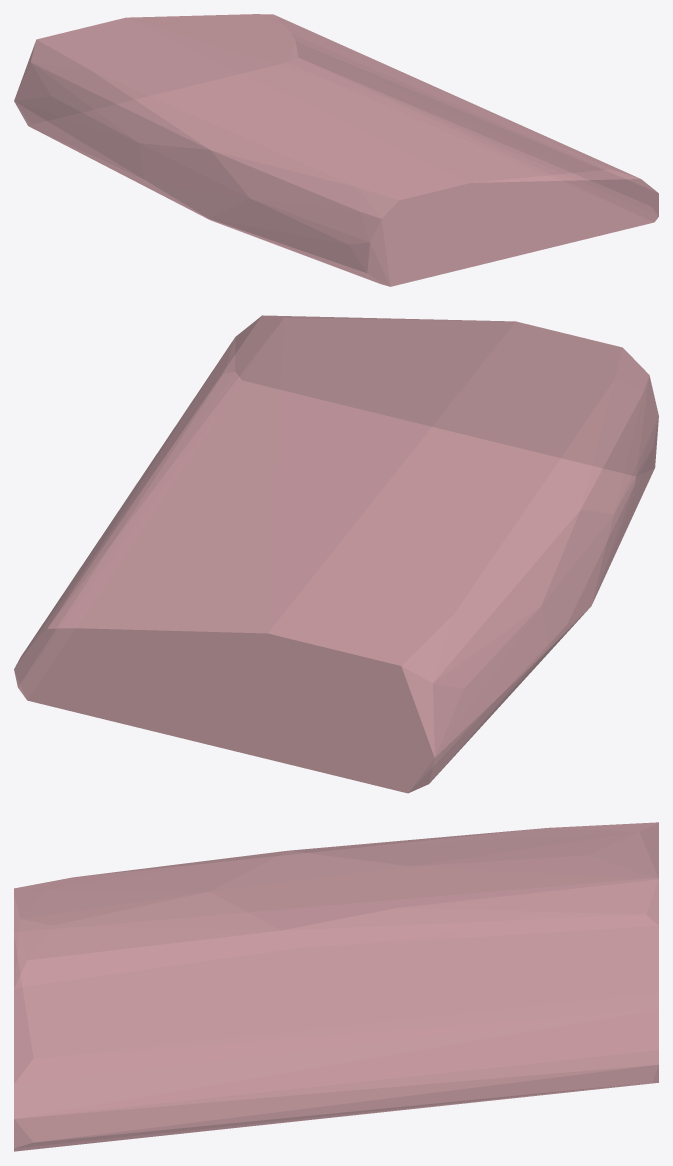
The picture shows the model from 3 angles, top to bottom: view 1: azimuth 30°, elevation 25°; view 2: azimuth 150°, elevation 25°; view 3: azimuth 270°, elevation 25°; orthographic projection. The views are drawn at different scales.
Visible parts, largest first — view 1: Shape_IndexedFaceSet.004_Shape_IndexedFaceSet.12877; view 2: Shape_IndexedFaceSet.004_Shape_IndexedFaceSet.12877; view 3: Shape_IndexedFaceSet.004_Shape_IndexedFaceSet.12877.
Boxes of the visible parts, x1,y1,x2,y2 form: Shape_IndexedFaceSet.004_Shape_IndexedFaceSet.12877: [14, 14, 658, 286]; Shape_IndexedFaceSet.004_Shape_IndexedFaceSet.12877: [14, 315, 658, 793]; Shape_IndexedFaceSet.004_Shape_IndexedFaceSet.12877: [14, 822, 658, 1151].
Bounding box in the file's own units: 0.2176 × 0.045 × 0.2476.
